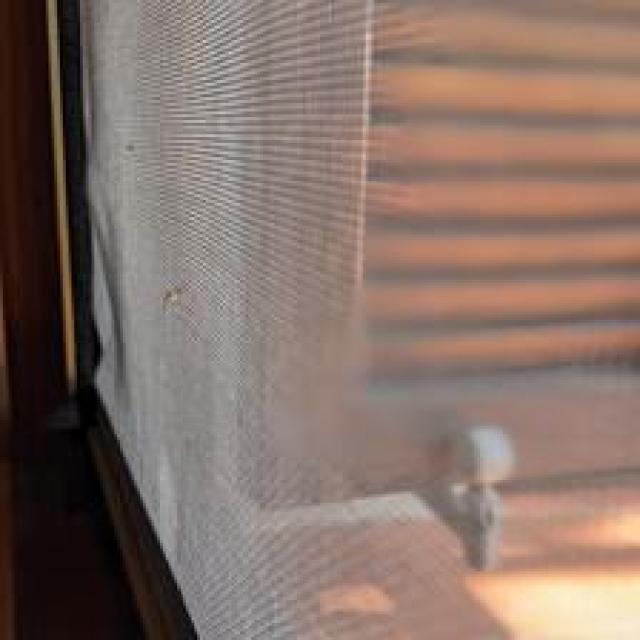Culex: (57, 0, 523, 640)
